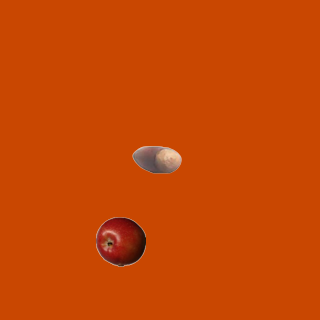Apple Braeburn: (95, 216, 145, 266)
Hazelnut: (131, 134, 181, 184)
